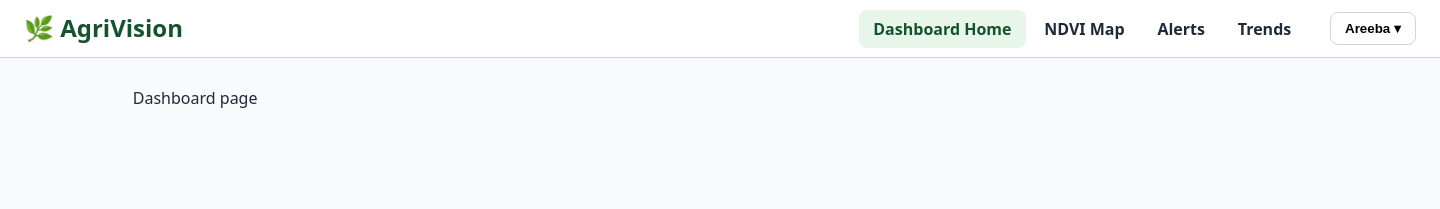
Profile menu › closes when the user clicks elsewhere
The image size is (1440, 209).
What coordinates should you click on to do the following:
click the button "Areeba ▾"
I would click on:
 (1373, 29)
Its box is [1330, 12, 1416, 45].
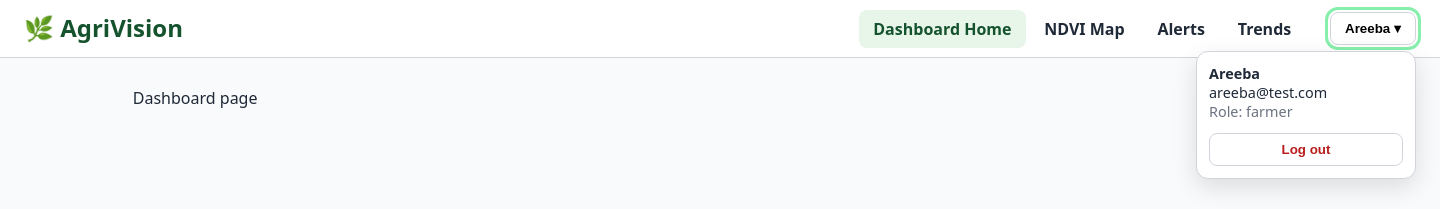
What coordinates should you click on to do the following:
click the text "Dashboard page"
I would click on:
 (195, 98)
Its box is [133, 87, 258, 109].
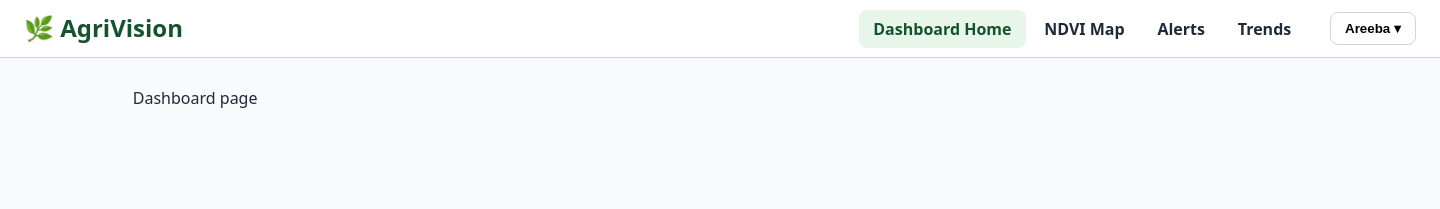
expect the menu is gone: met
